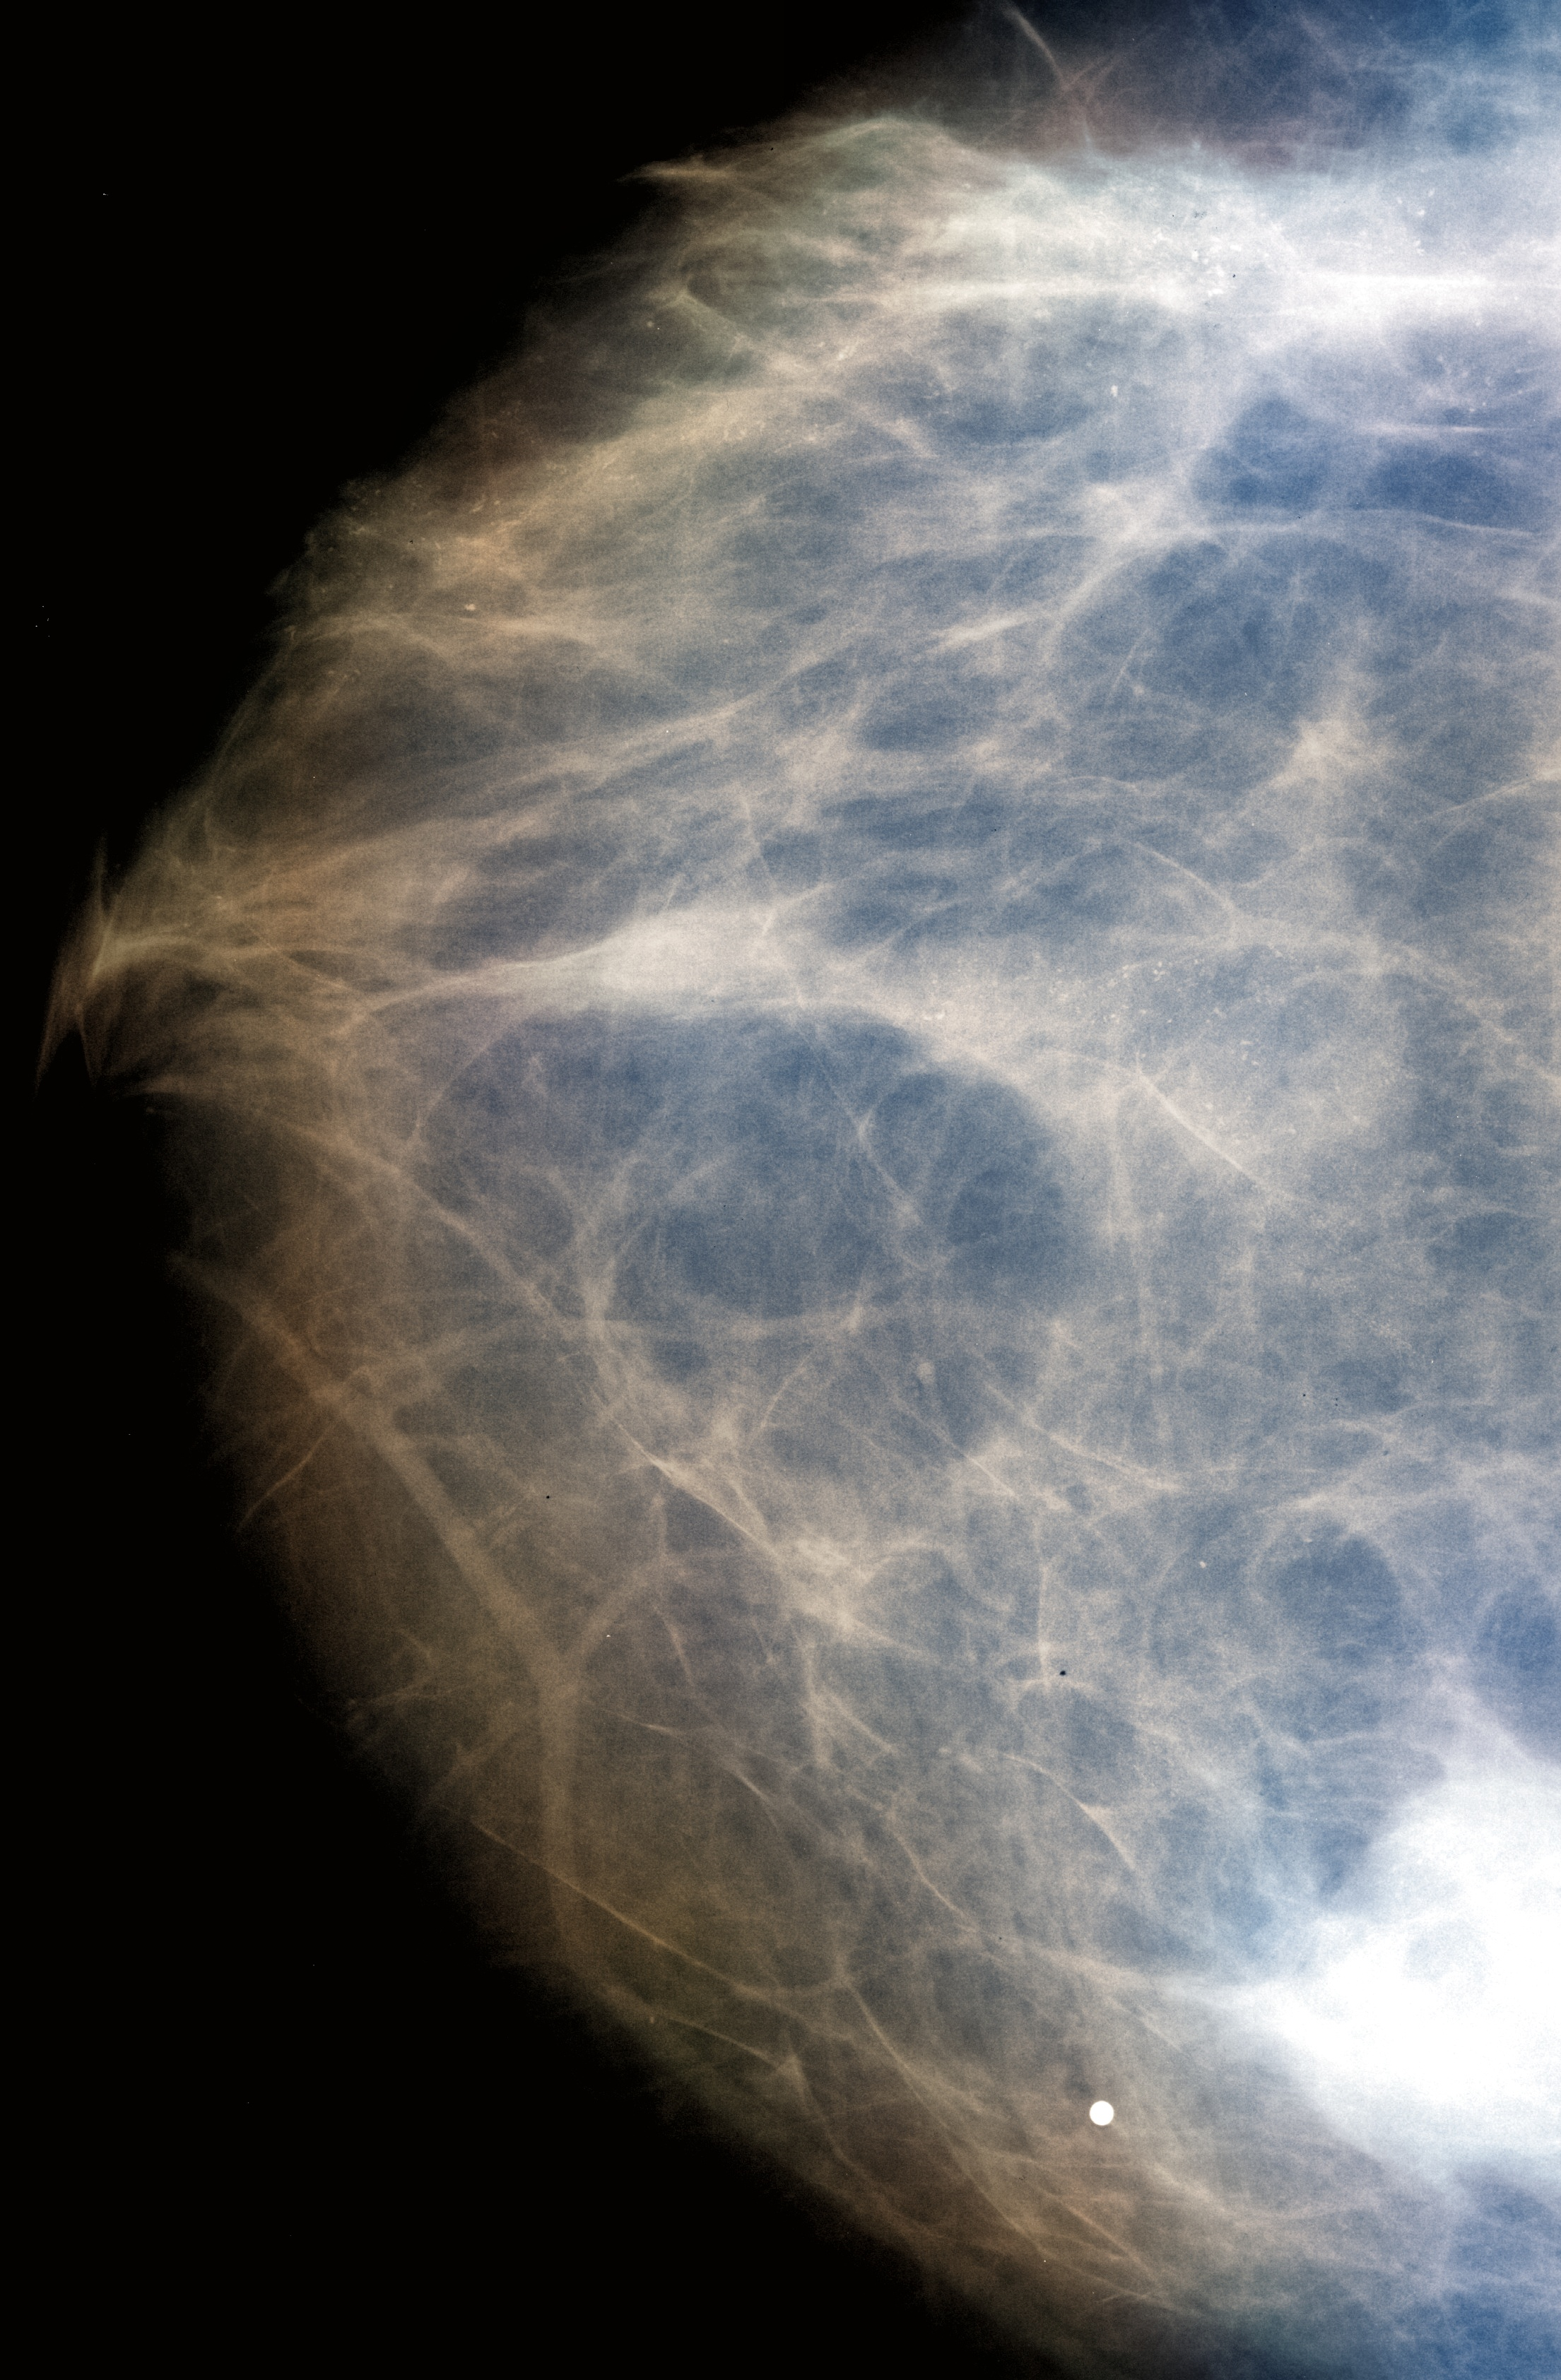tumor: (0, 0, 1561, 1323), (944, 1487, 1561, 2380)
